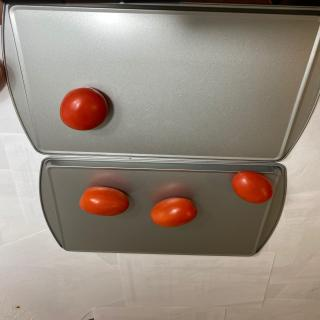Tomato: (60, 87, 108, 131), (79, 186, 129, 216), (150, 197, 198, 227), (232, 170, 274, 203)
